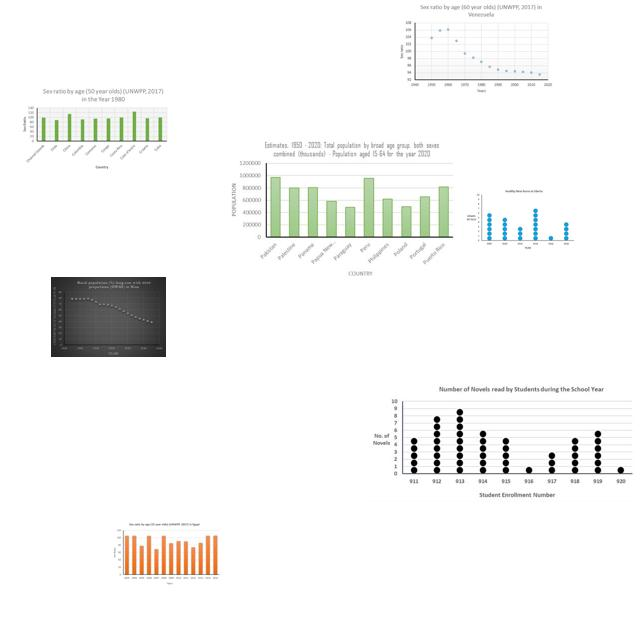Graph: (223, 137, 458, 277), (369, 381, 637, 502), (396, 0, 556, 95), (19, 85, 169, 172), (51, 277, 166, 357), (110, 521, 224, 588), (463, 186, 577, 253)
